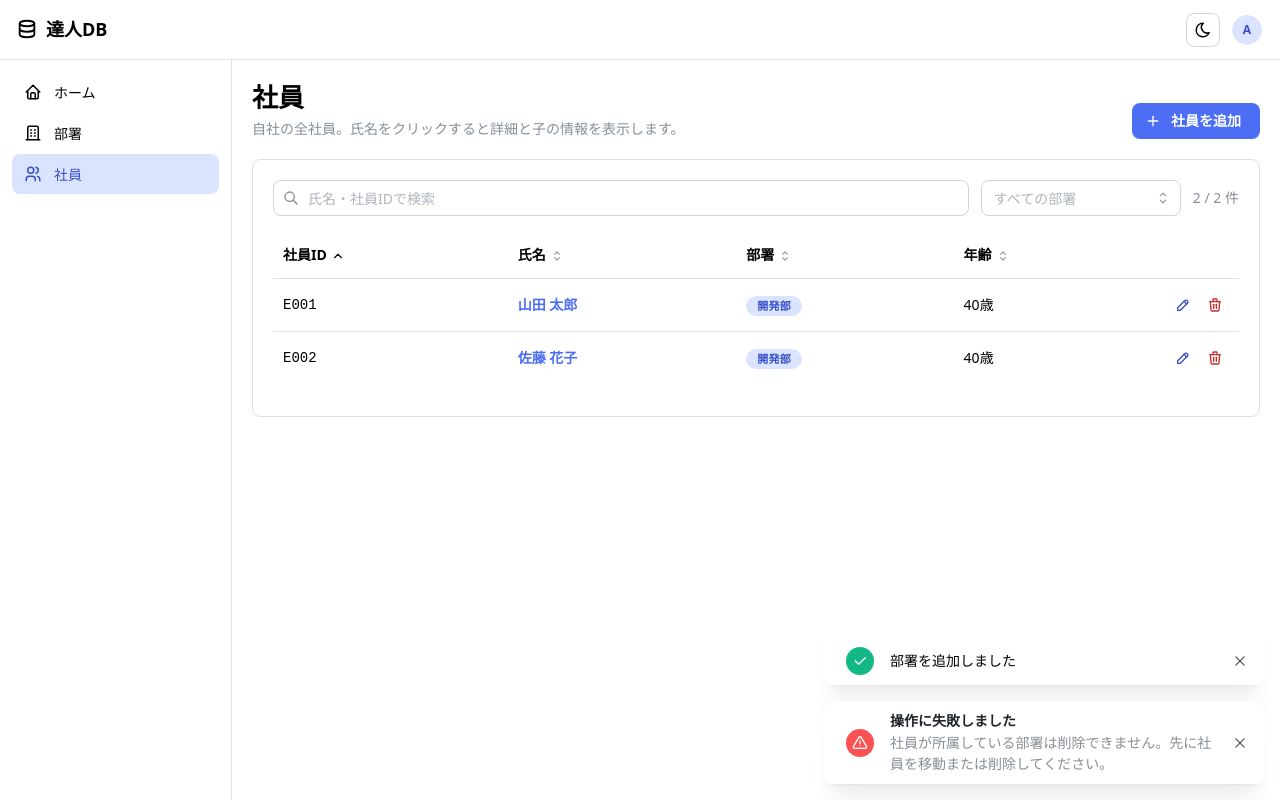
Test: 社員 › 全社員一覧で検索できる
Expected: the link "山田 太郎" is shown, [518, 295, 577, 314]
In the field named "社員を検索": [621, 198] box [273, 180, 969, 216], type "佐藤"
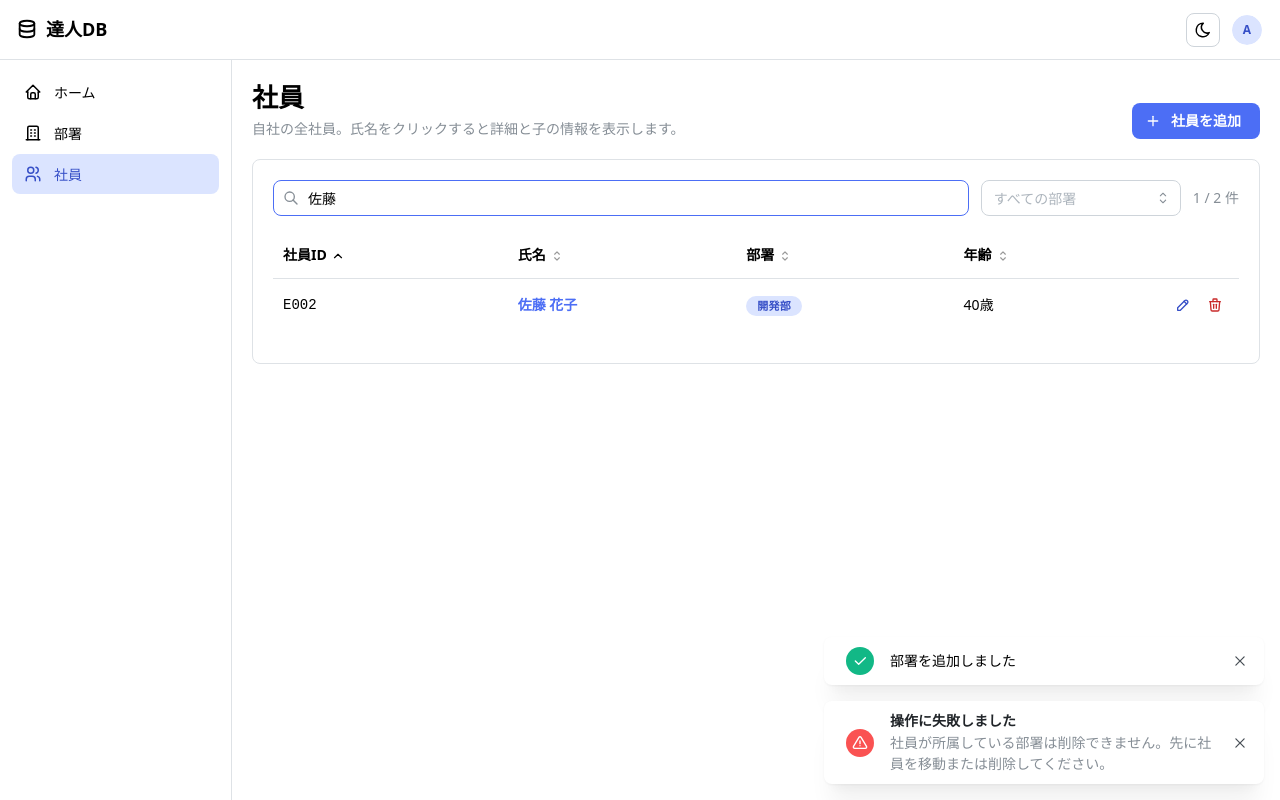
Expected: the link "佐藤 花子" is shown, [518, 295, 577, 314]
Now the link "山田 太郎" is gone
Now the text "1 / 2 件" is shown, box [1193, 188, 1239, 208]
